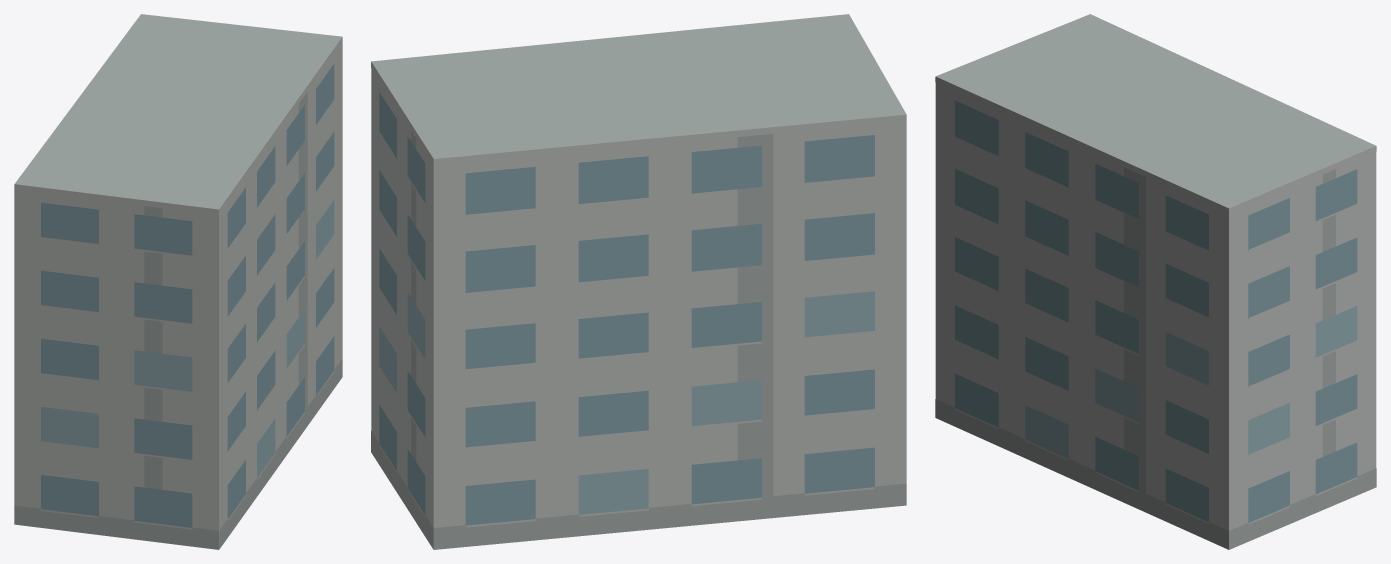
The model's file is survey-upis-32947951.glb.
3 views of the same model, side by side, from view 1: azimuth 30°, elevation 25°; view 2: azimuth 150°, elevation 25°; view 3: azimuth 270°, elevation 25° (orthographic). The views are drawn at different scales.
Parts seen in each view (by area): view 1: survey-upis-32947951.tmp; view 2: survey-upis-32947951.tmp; view 3: survey-upis-32947951.tmp.
Boxes of the visible parts, x1,y1,x2,y2 form: survey-upis-32947951.tmp: [14, 14, 342, 549]; survey-upis-32947951.tmp: [371, 14, 906, 549]; survey-upis-32947951.tmp: [935, 14, 1376, 549].
Size of the model in its own units: 17.35 by 14.2 by 16.63.
